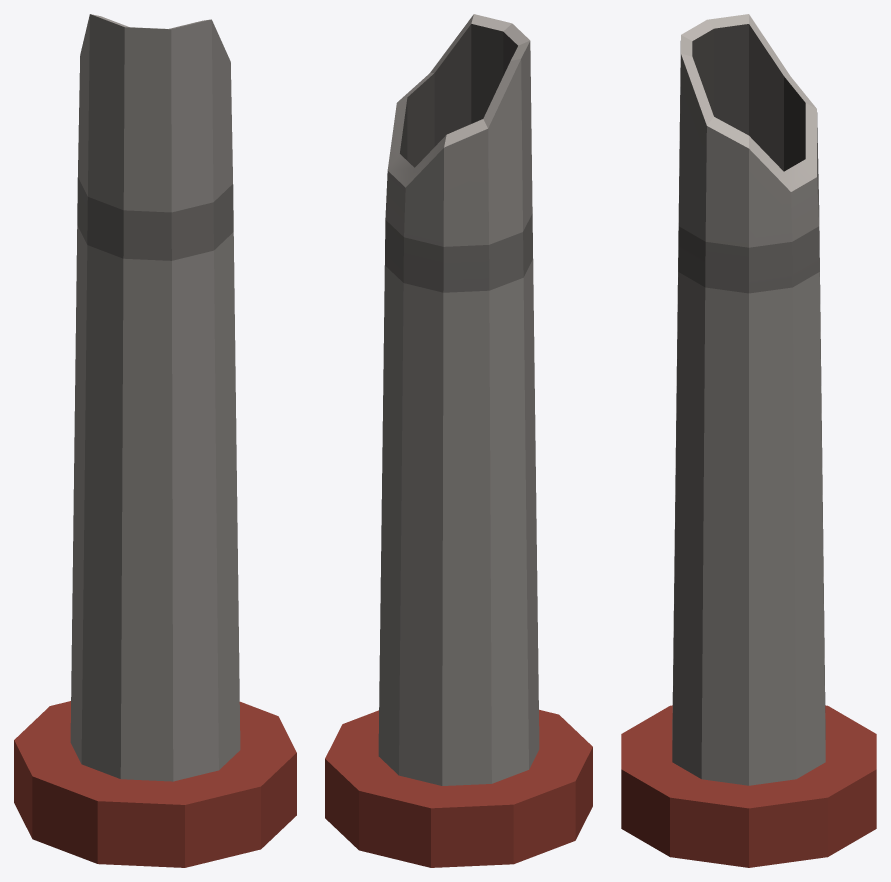
File: SA_Bld_CoolingTowerSmall_Damaged_01.gltf
3 views of the same model, side by side, from view 1: azimuth 30°, elevation 25°; view 2: azimuth 150°, elevation 25°; view 3: azimuth 270°, elevation 25° (orthographic). The views are drawn at different scales.
Visible parts, largest first — view 1: SA_Bld_CoolingTowerSmall_Damaged_01; view 2: SA_Bld_CoolingTowerSmall_Damaged_01; view 3: SA_Bld_CoolingTowerSmall_Damaged_01.
Part boxes in pixels (x1,y1,x2,y2): SA_Bld_CoolingTowerSmall_Damaged_01: (14, 14, 296, 867); SA_Bld_CoolingTowerSmall_Damaged_01: (325, 14, 592, 867); SA_Bld_CoolingTowerSmall_Damaged_01: (621, 14, 876, 867).
Bounding box in the file's own units: 9.26 × 29.16 × 8.81.
1 material, 1 textured.
